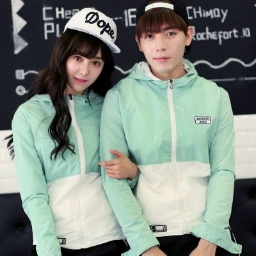face: (47, 24, 111, 97), (132, 3, 195, 74)
